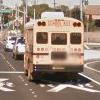Bus: (21, 12, 87, 85)
